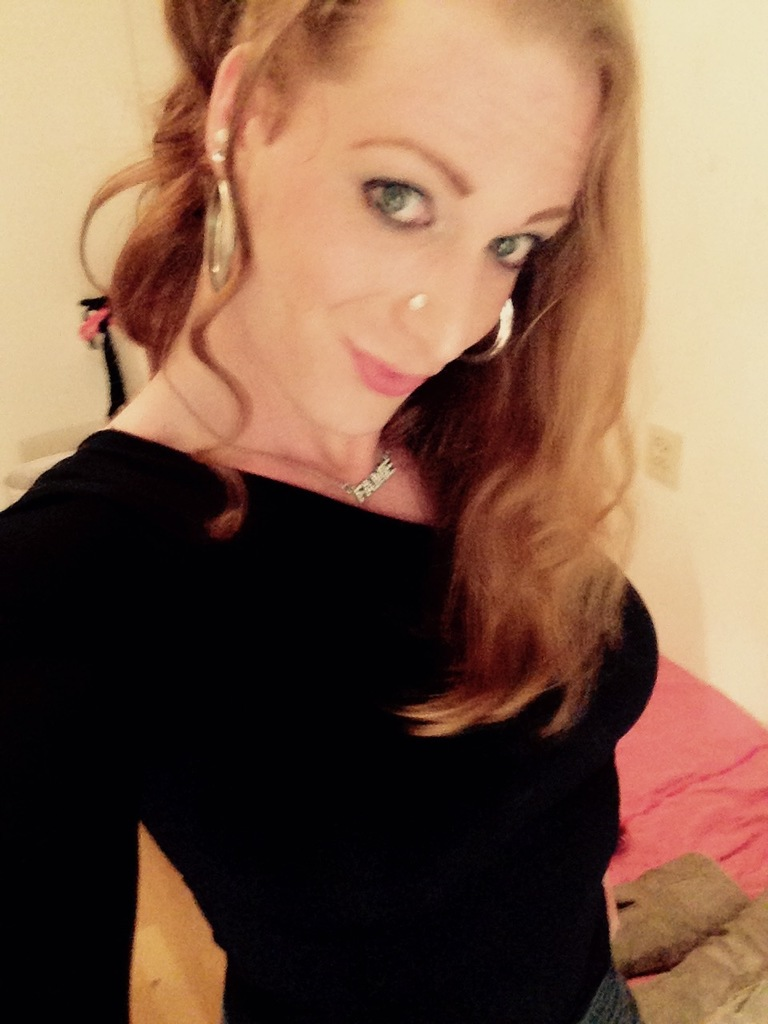Human-face: (181, 18, 589, 438)
